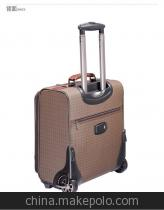suitcase: (32, 21, 130, 192)
